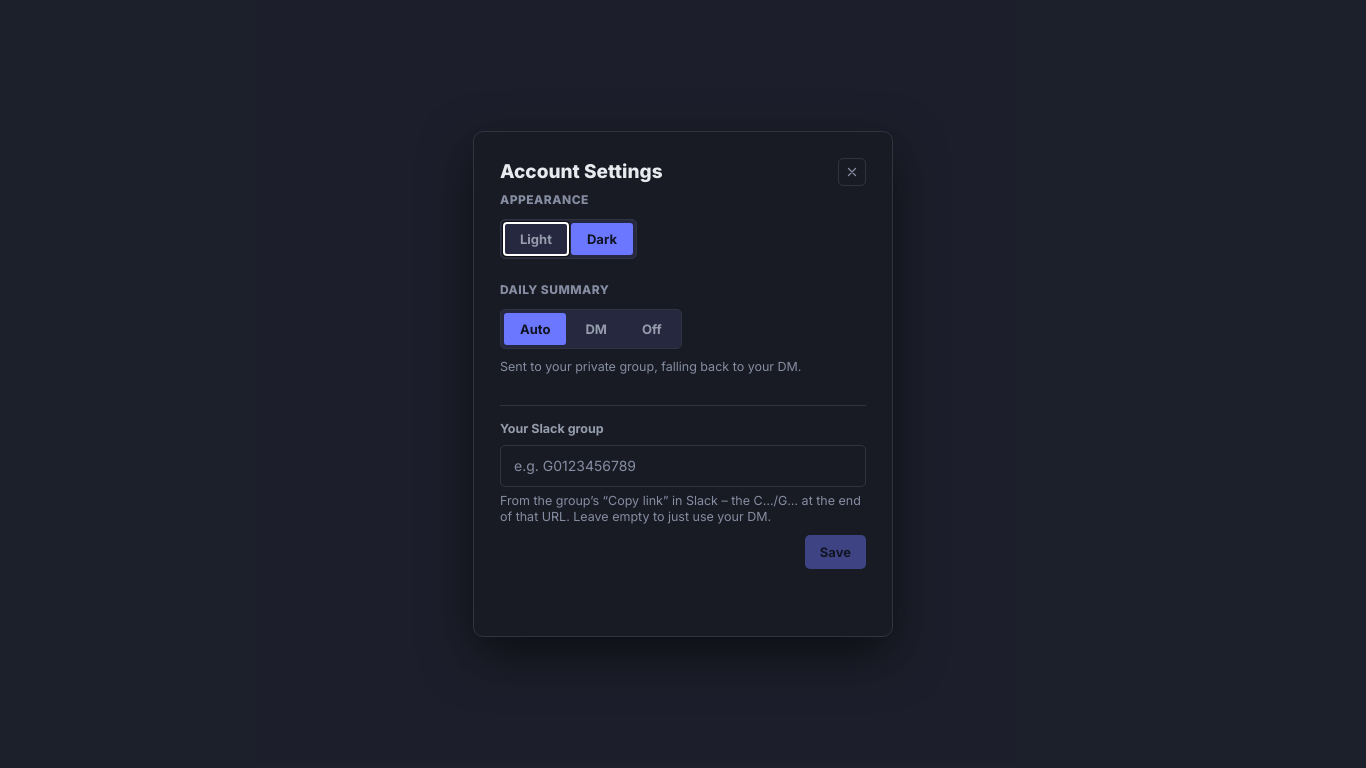
Test case: AccountSettingsModal › Slack group id (only while Auto is selected) › should surface a Slack-unreachable warning as a warning, not a failure, and keep the saved value
This screenshot has width=1366, height=768.
Type "G-NEW" into the field labelled "Your Slack group" at [683, 466], box 500,445 -> 866,487
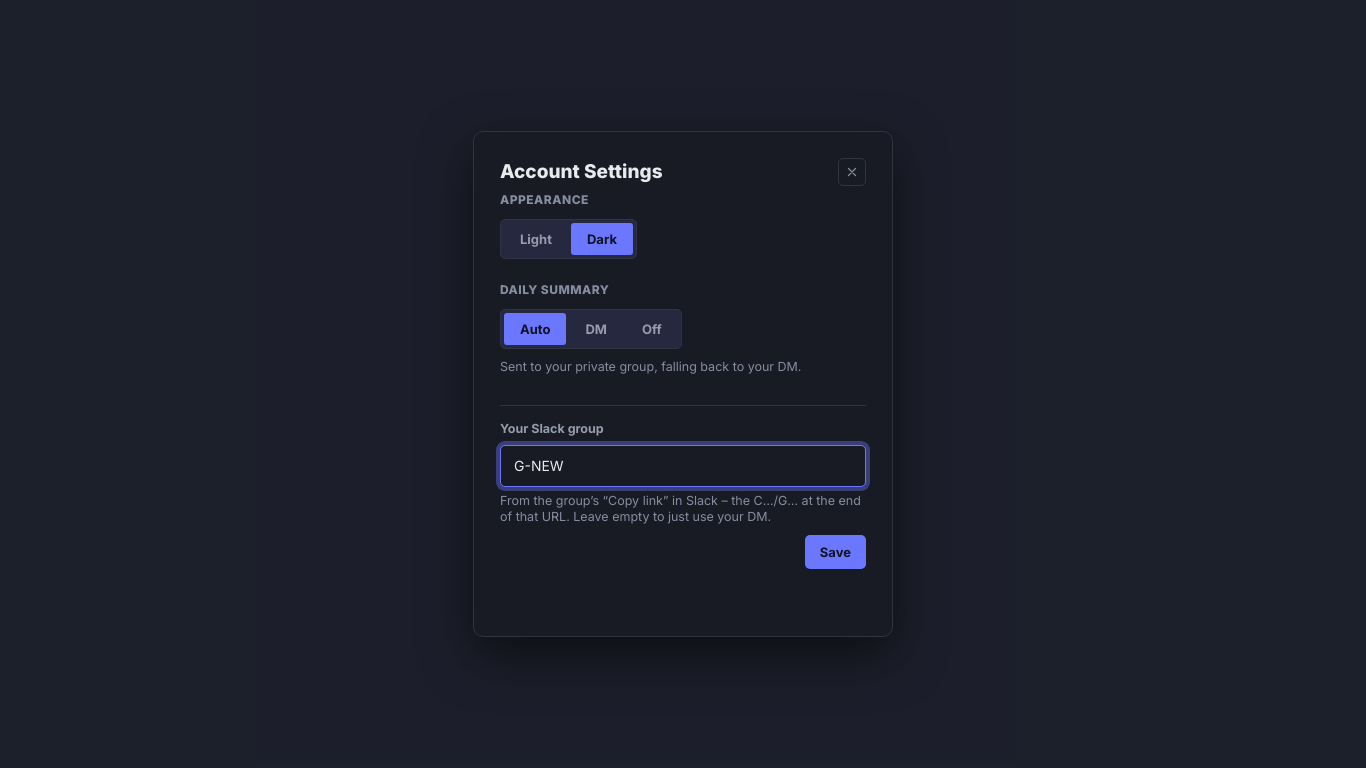
Click the button "Save" at [835, 552], box 805,535 -> 866,569
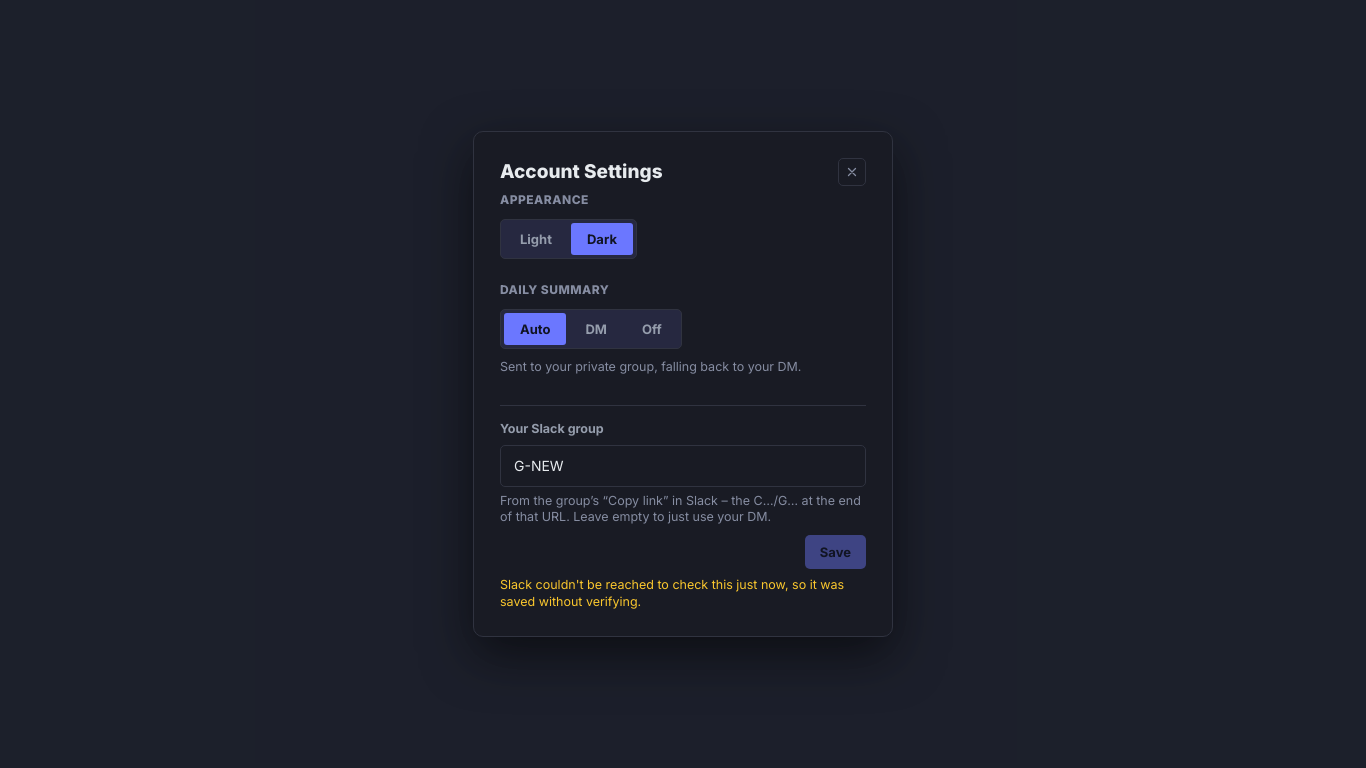
Result: the text "Slack couldn't be reached to check this just now" is shown at 500,577 -> 844,609
